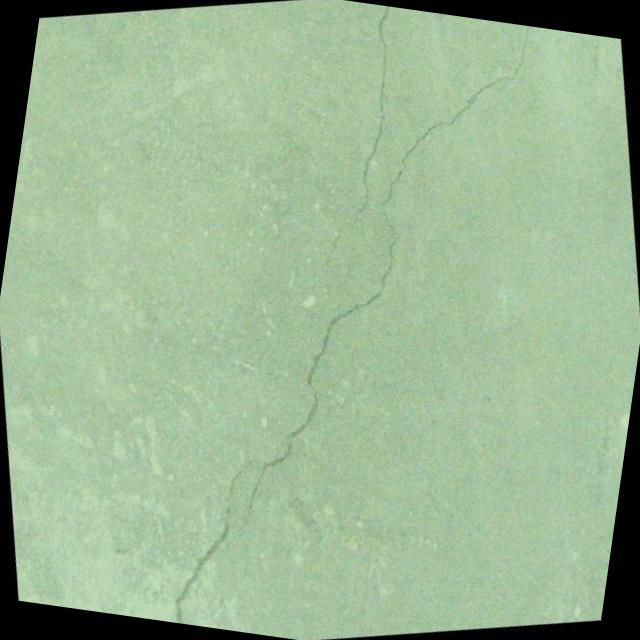crack: (49, 0, 640, 640), (297, 0, 438, 244), (312, 211, 362, 292)
